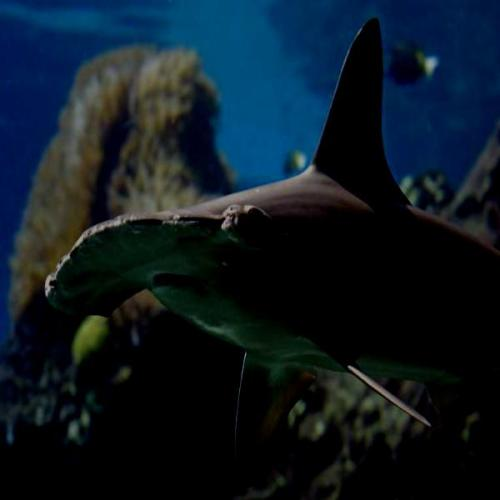shark-endangered: (37, 20, 500, 442)
